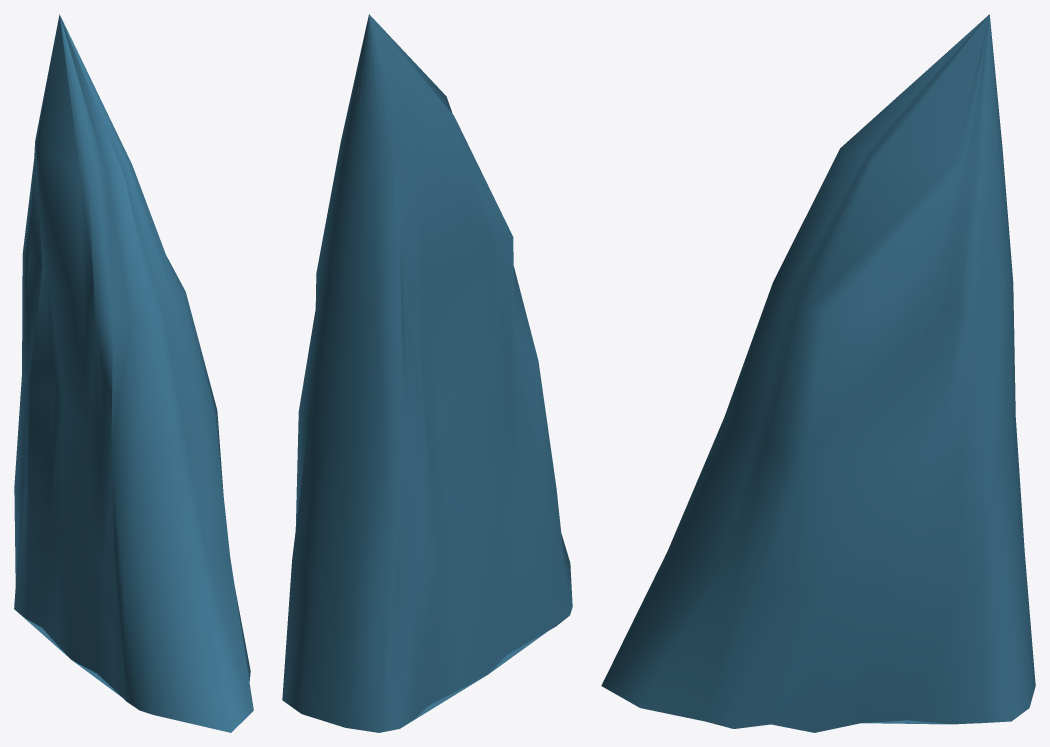
The model's file is shoting.FBX.
3 renders of one model, left to right at view 1: azimuth 30°, elevation 25°; view 2: azimuth 150°, elevation 25°; view 3: azimuth 270°, elevation 25°, orthographic. The views are drawn at different scales.
Visible parts, largest first — view 1: Cone001; view 2: Cone001; view 3: Cone001.
Boxes of the visible parts, <box> form: Cone001: <box>14,14,253,732</box>; Cone001: <box>282,14,572,732</box>; Cone001: <box>601,14,1035,732</box>.
Size of the model in its own units: 1.72 by 7.35 by 4.31.
